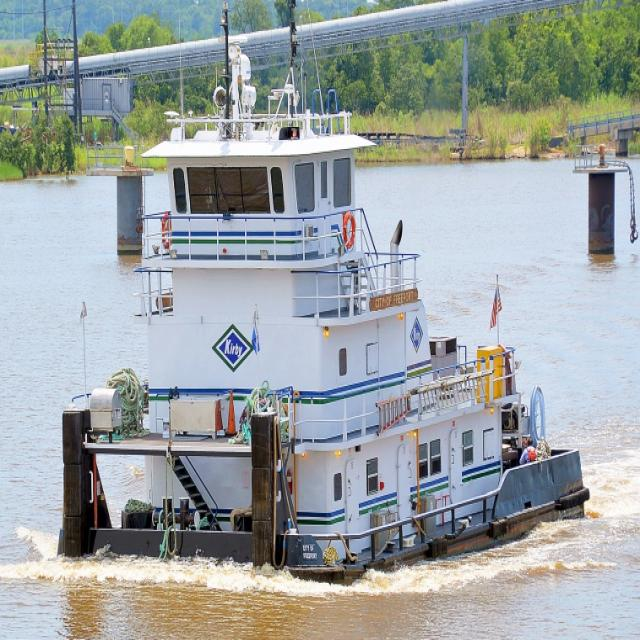tugboat: (54, 105, 596, 610)
